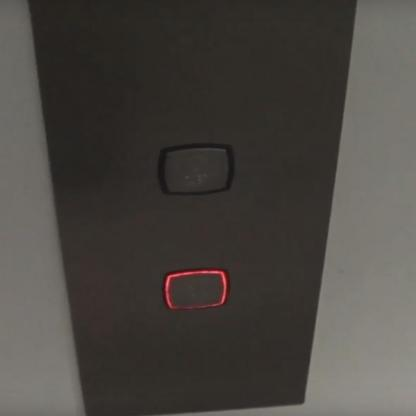blur: (156, 144, 234, 196), (162, 268, 230, 310)
